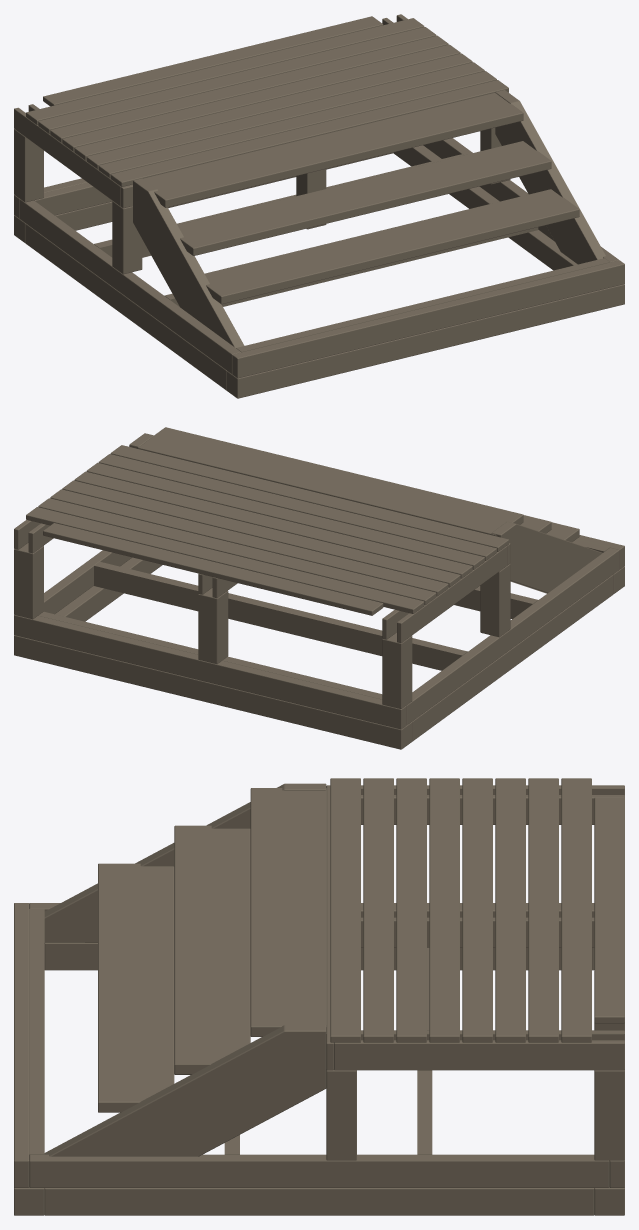
The model's file is SM_Porch_Steps.fbx.
The picture shows the model from 3 angles, top to bottom: view 1: azimuth 30°, elevation 25°; view 2: azimuth 150°, elevation 25°; view 3: azimuth 270°, elevation 25°; orthographic projection. The views are drawn at different scales.
Visible parts, largest first — view 1: SM_Porch_Steps; view 2: SM_Porch_Steps; view 3: SM_Porch_Steps.
Part boxes in pixels (x1,y1,x2,y2): SM_Porch_Steps: (14,14,624,398); SM_Porch_Steps: (14,427,624,749); SM_Porch_Steps: (14,778,624,1215).
Bounding box in the file's own units: 200 × 65.37 × 200.
